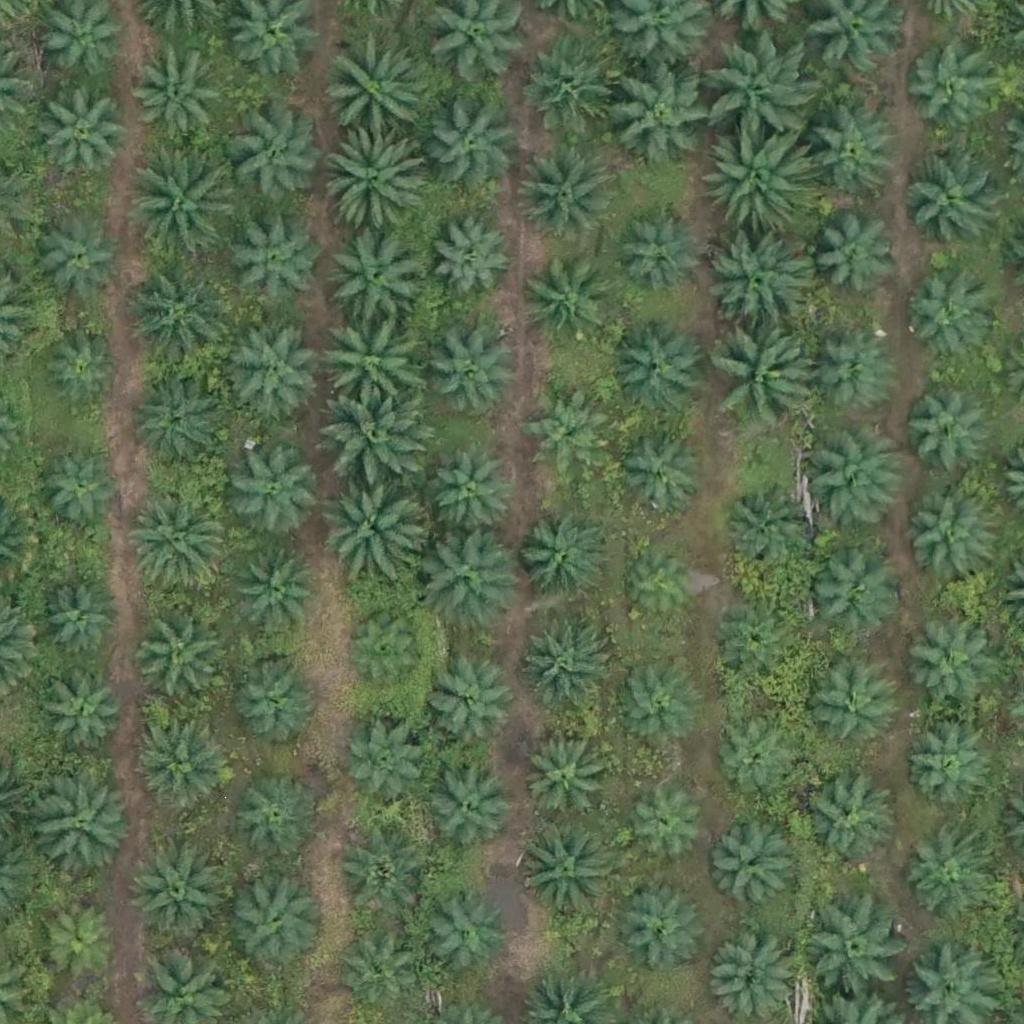Kelapa_Sawit: (703, 32, 816, 145), (127, 151, 240, 264), (700, 125, 812, 238), (321, 126, 433, 239), (36, 770, 136, 871), (128, 268, 228, 369), (129, 485, 229, 586), (135, 716, 235, 817), (220, 319, 320, 420), (225, 865, 325, 966), (321, 319, 421, 420), (319, 472, 419, 573), (422, 528, 522, 629), (517, 824, 617, 925), (715, 330, 815, 431), (722, 478, 822, 579), (795, 774, 895, 875), (810, 899, 910, 1000), (900, 611, 1000, 712), (899, 151, 999, 252), (905, 40, 1005, 141), (802, 101, 902, 202), (329, 221, 429, 322), (223, 208, 323, 309), (227, 104, 327, 205), (129, 41, 229, 142), (127, 844, 227, 944), (326, 390, 426, 490), (605, 321, 705, 421), (612, 425, 712, 525), (805, 432, 905, 532), (706, 233, 806, 333), (616, 70, 716, 170), (515, 145, 615, 245), (522, 37, 622, 137), (323, 33, 423, 133), (521, 517, 609, 606), (136, 385, 224, 473), (230, 656, 318, 744), (231, 776, 319, 864), (345, 720, 433, 808), (338, 834, 426, 922), (431, 452, 519, 540), (423, 663, 511, 751), (427, 764, 515, 852), (419, 893, 507, 981), (524, 260, 612, 348), (524, 387, 612, 475), (521, 623, 609, 711), (717, 602, 805, 690), (807, 329, 895, 417), (808, 550, 896, 638), (804, 662, 892, 750), (905, 387, 993, 475), (905, 494, 993, 582), (902, 727, 990, 815), (611, 213, 699, 301), (37, 212, 125, 300), (37, 671, 124, 760), (233, 542, 320, 631), (40, 86, 127, 175), (38, 893, 125, 981), (39, 325, 126, 413), (36, 446, 123, 534), (41, 576, 128, 664), (135, 614, 222, 702), (233, 452, 320, 540), (336, 929, 423, 1017), (339, 611, 426, 699), (428, 331, 515, 419), (524, 737, 611, 825), (619, 883, 706, 971), (626, 779, 713, 867), (614, 656, 701, 744), (713, 719, 800, 807), (712, 828, 799, 916), (901, 834, 988, 922), (898, 276, 985, 364), (809, 208, 896, 296), (429, 103, 516, 191), (430, 211, 517, 299), (624, 550, 699, 626)
